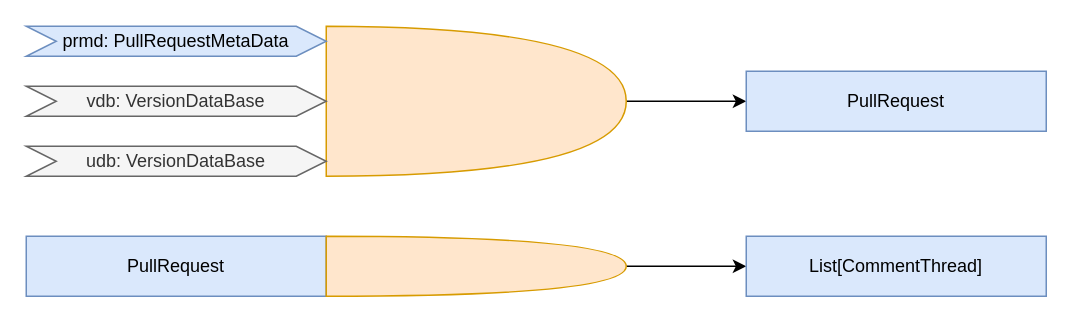
Some shapes in this 1073 by 323 pixel diagram are drawn without their labels. Here are the shapes that lost their labels. From the top down, the box of each, then its label:
(325, 25, 626, 176): PullRequest() (__init__)
(325, 235, 626, 296): get()
